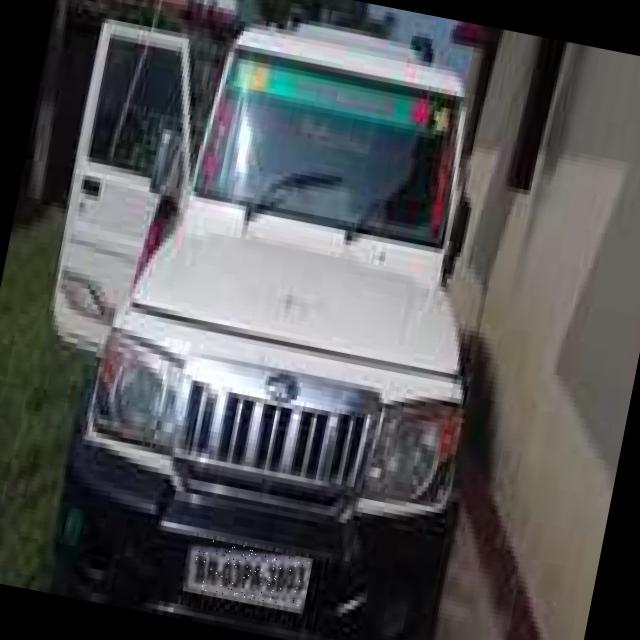Plate: (182, 536, 315, 611)
